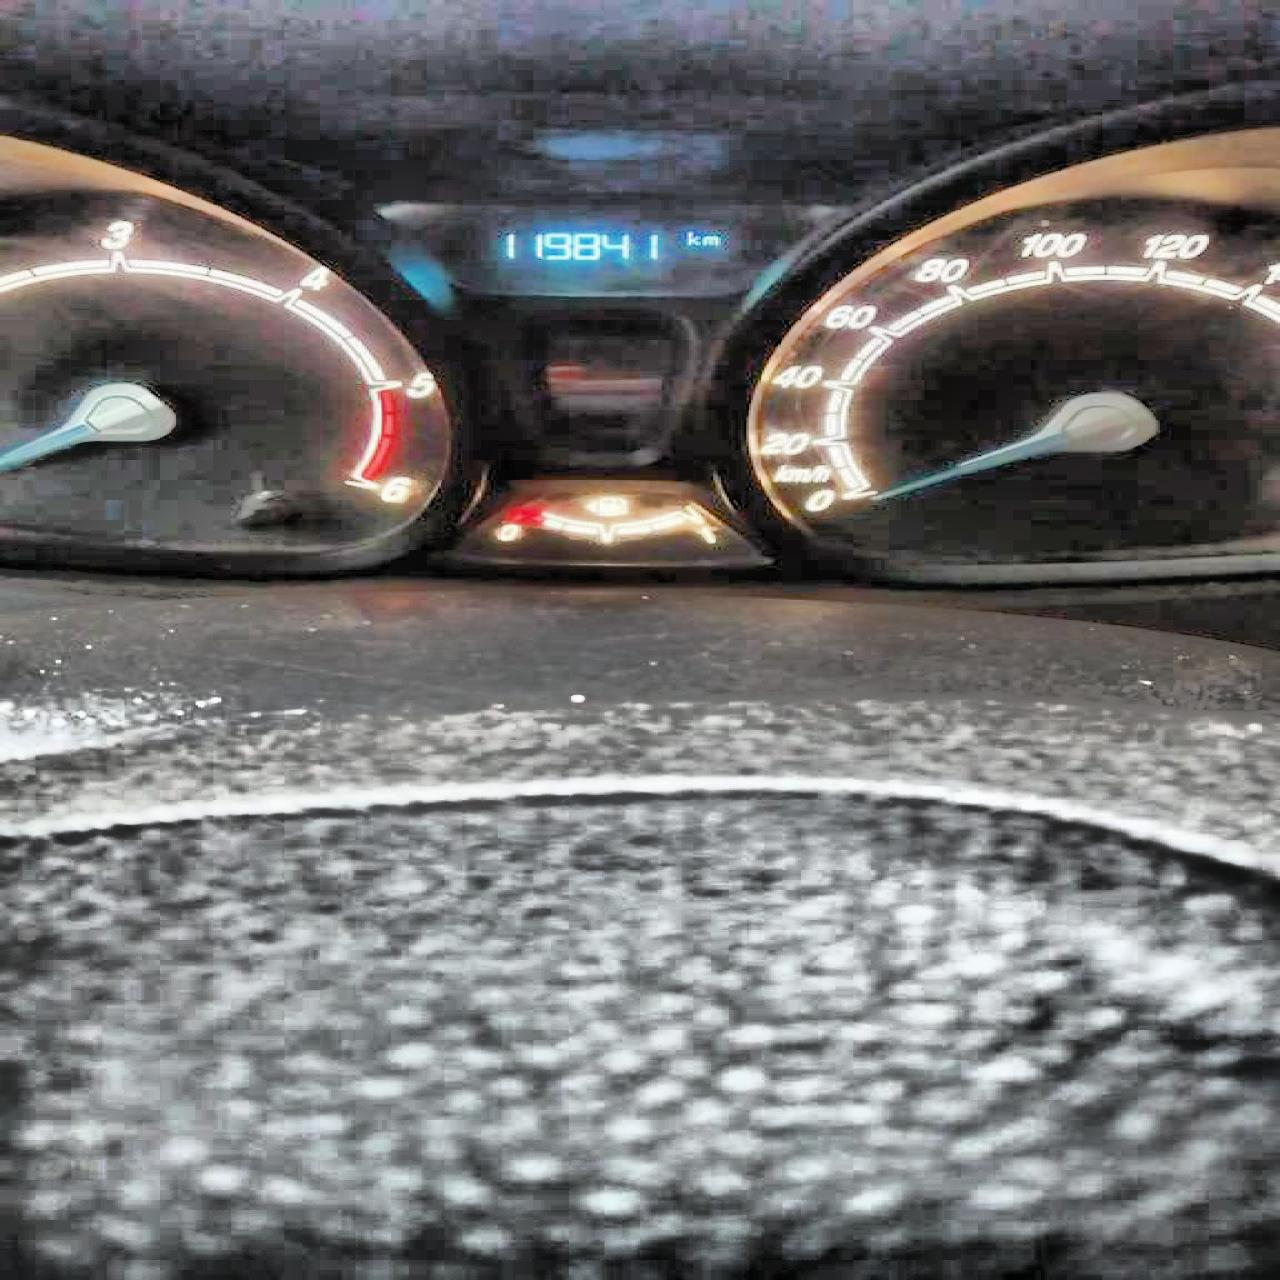1: (501, 229, 516, 264), (645, 233, 660, 265), (531, 230, 542, 265)
4: (598, 231, 632, 259)
8: (571, 230, 598, 261)
9: (545, 231, 571, 261)
X: (682, 229, 697, 246), (700, 233, 719, 246)
odometer: (467, 219, 744, 286)
